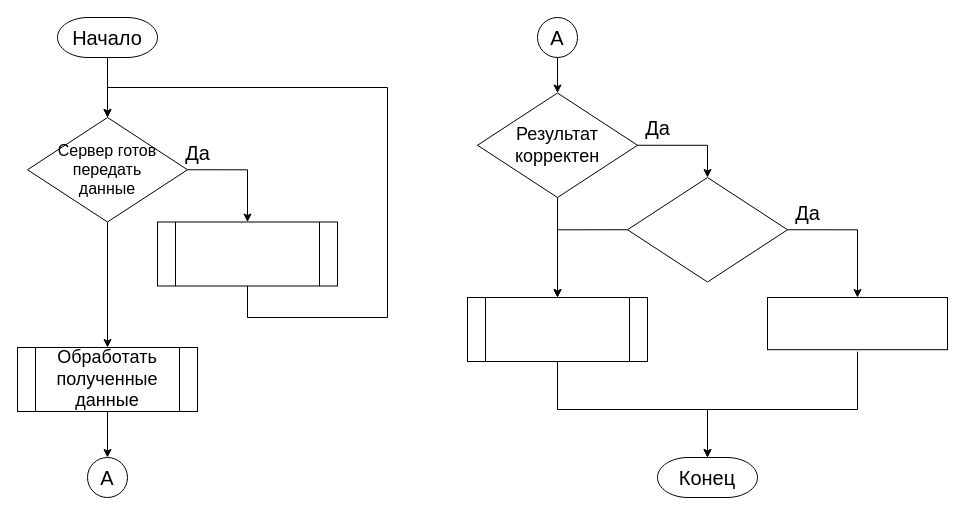
This 965x515 diagram has some shape labels left out. Each missing label, with the centre of its shape:
"Записать сообщение в буфер ошибок" goes at (557,329).
"Запись данных от сервера в выходной буфер" goes at (247,253).
"Разблокировать мьютекс" goes at (857,323).
"Соединение открыто" goes at (707,229).
